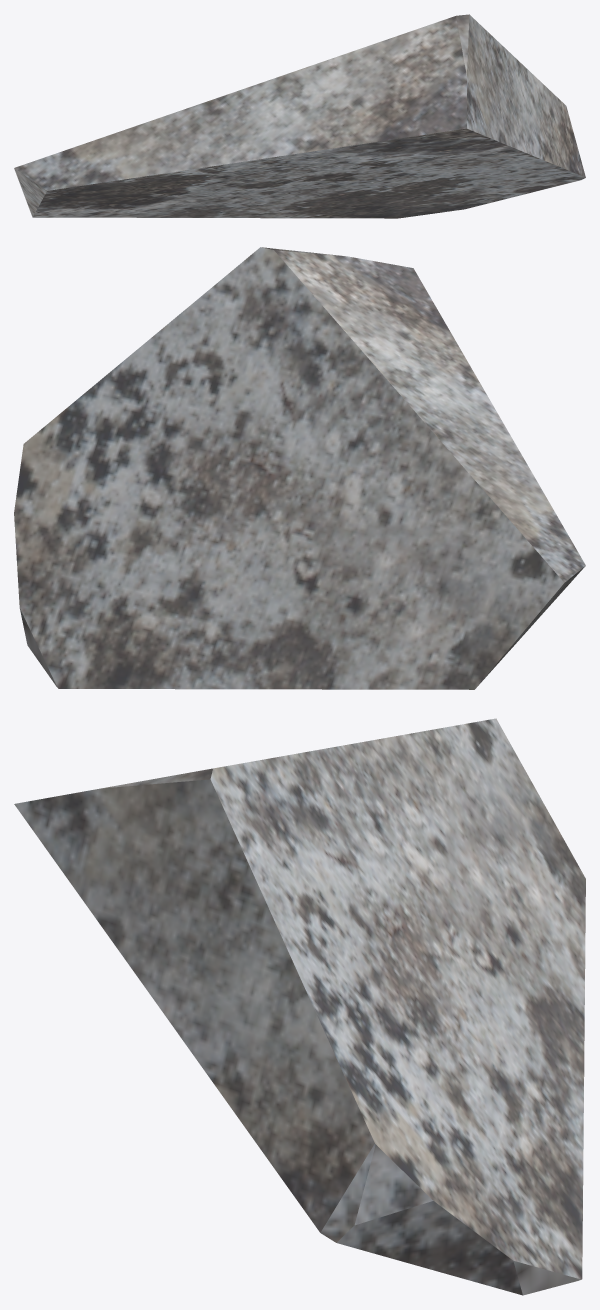
File: Asteroid_Large_001_02_006_03_009.fbx
3 renders of one model, top to bottom at view 1: azimuth 30°, elevation 25°; view 2: azimuth 150°, elevation 25°; view 3: azimuth 270°, elevation 25°, orthographic. The views are drawn at different scales.
Parts seen in each view (by area): view 1: Asteroid_Large_001_02_006_03_009; view 2: Asteroid_Large_001_02_006_03_009; view 3: Asteroid_Large_001_02_006_03_009.
Part boxes in pixels (left/top/right/bottom): Asteroid_Large_001_02_006_03_009: left=14, top=14, right=585, bottom=218; Asteroid_Large_001_02_006_03_009: left=14, top=247, right=585, bottom=689; Asteroid_Large_001_02_006_03_009: left=14, top=718, right=585, bottom=1295.
Size of the model in its own units: 10.1 by 5.8 by 6.49.
